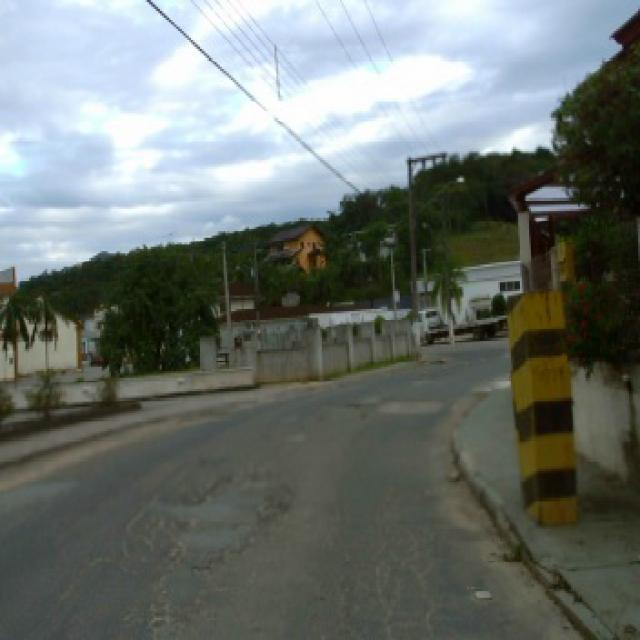Poth-hole: (112, 469, 298, 631), (369, 482, 438, 636), (374, 398, 444, 413), (498, 548, 518, 564), (471, 584, 493, 598), (444, 472, 462, 484), (344, 400, 362, 407), (431, 356, 449, 362)
